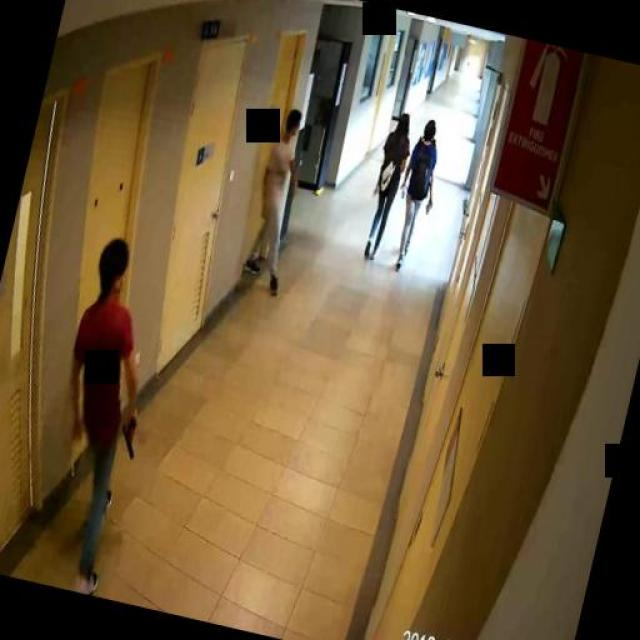gun: (115, 412, 143, 458)
